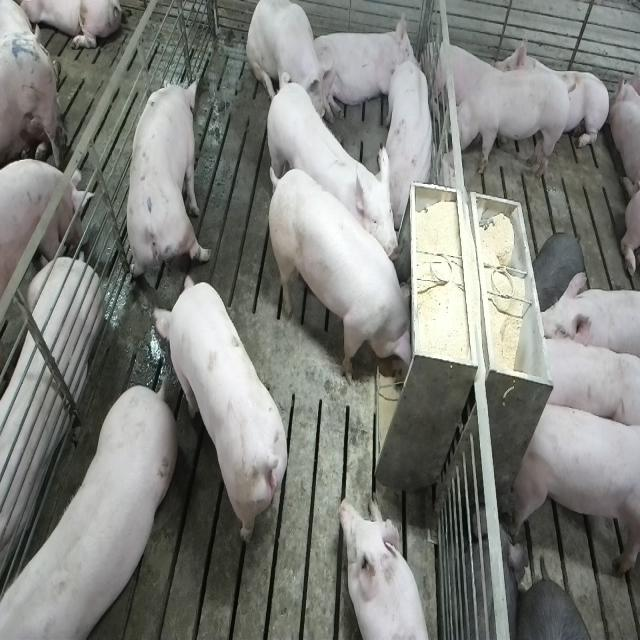Feeding: (271, 164, 421, 387)
Lateral_lying: (0, 153, 101, 587), (314, 10, 419, 126)
Sitting: (246, 1, 333, 132)
Standing: (0, 382, 173, 640), (154, 281, 293, 552), (262, 76, 398, 267), (509, 396, 638, 580), (124, 74, 209, 297), (448, 66, 575, 178), (532, 329, 637, 431), (536, 271, 640, 369)
Sternal_lying: (494, 30, 609, 158), (338, 494, 434, 640), (427, 35, 499, 118)
